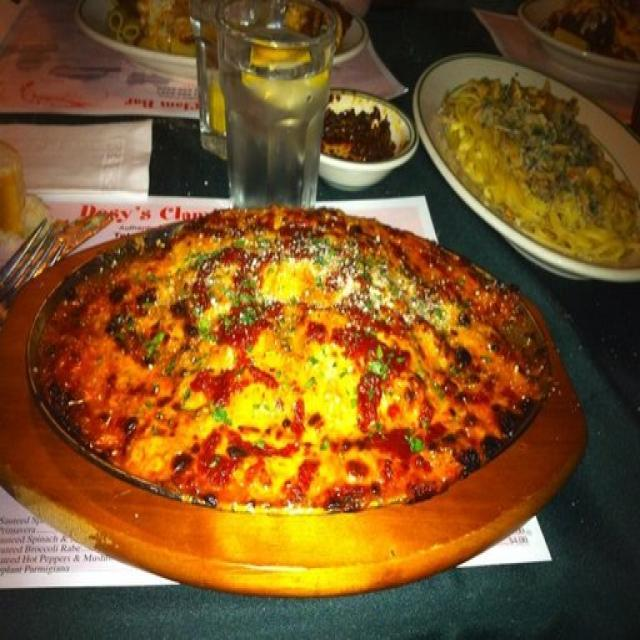Lasagna: (40, 198, 571, 528)
